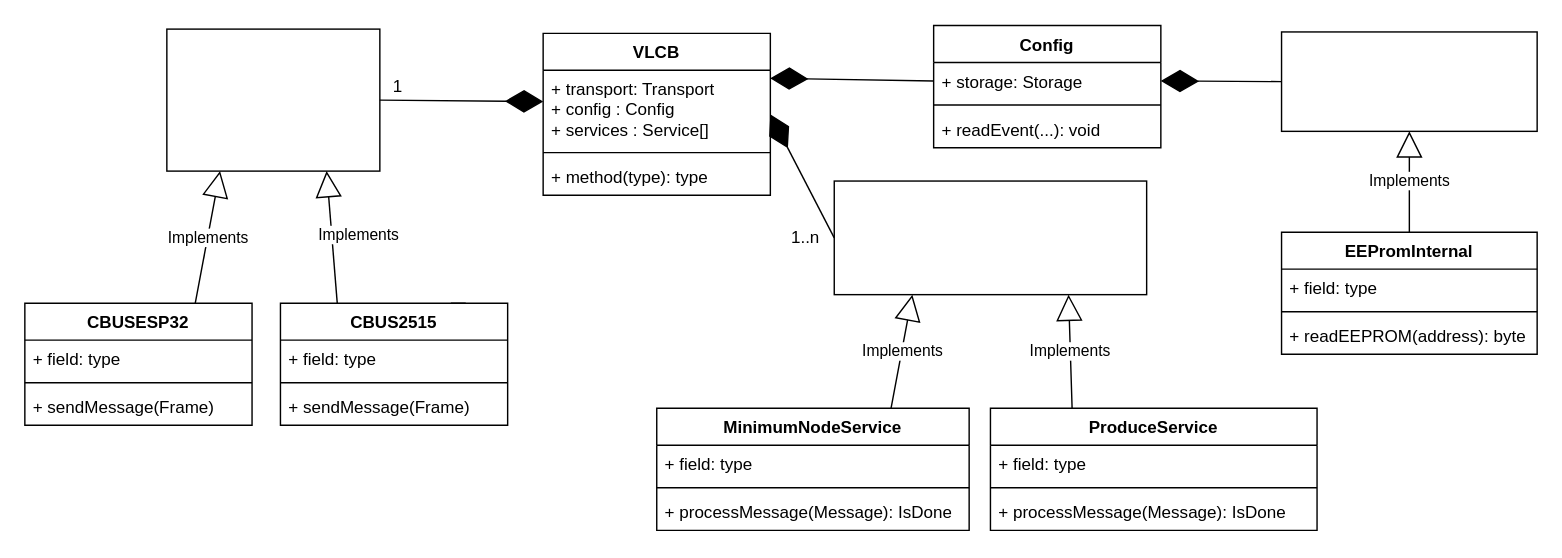
Some shapes in this 1562 by 558 pixel diagram are drawn without their labels. The shapes that lost their labels are listed below. From the top down, each one's centre as x and y in pixels, then its label:
At point 272,99: "«interface» Transport + sendMessage(Frame)".
At point 1408,81: "«interface» Storage + readEEPROM(address): byte".
At point 990,237: "«interface» Service + processMessage(Message): IsDone".
